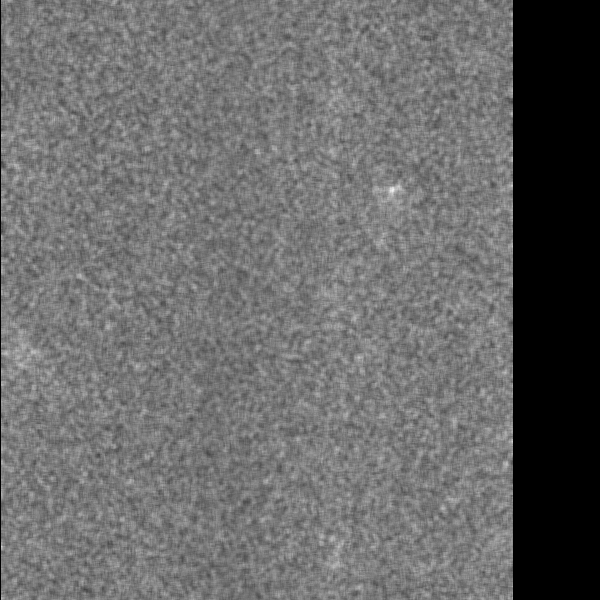spark: (378, 179, 402, 211)
